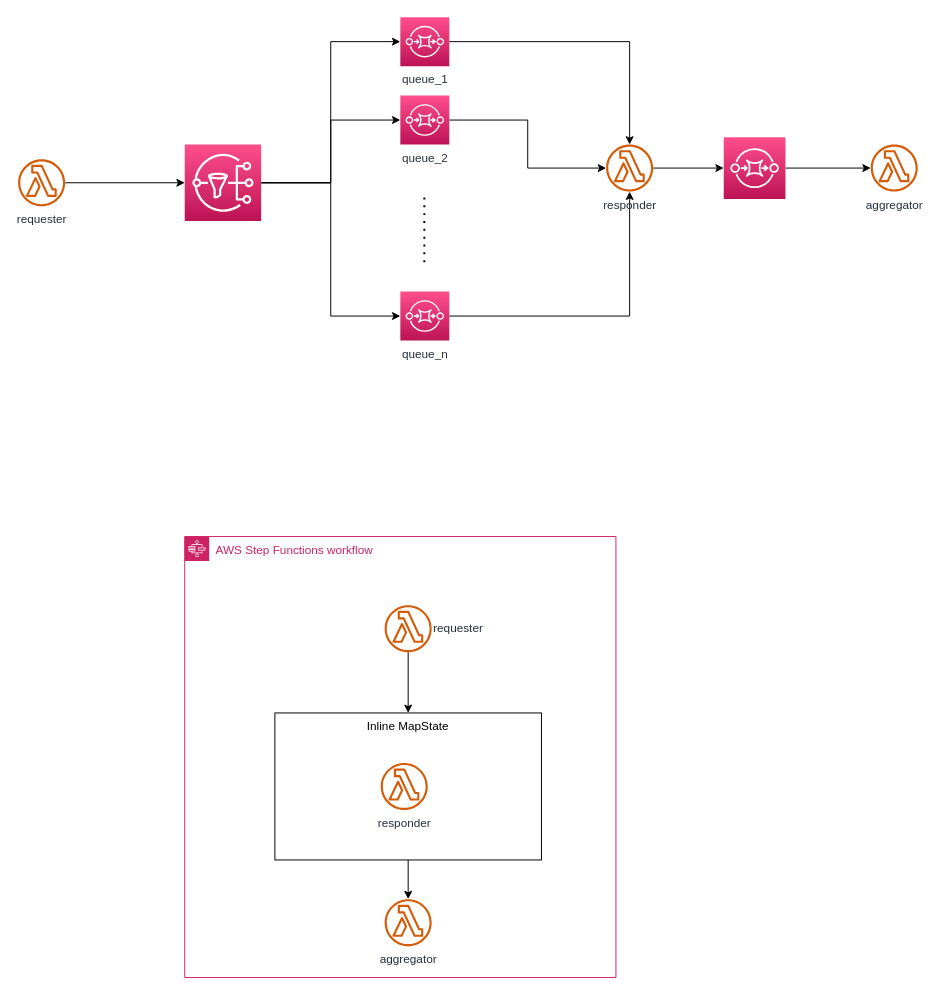
Image size: 940x995. Some labels were removed from this diagram. The centre of each missing label's shape, as x and y in pixels:
aggregator_queue: point 754,167
SNS: point 222,182
